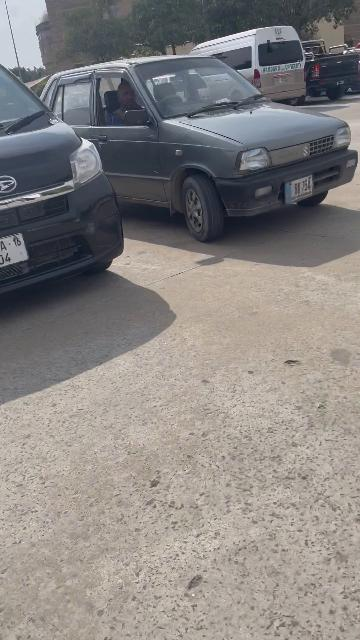plate: (285, 174, 315, 203)
